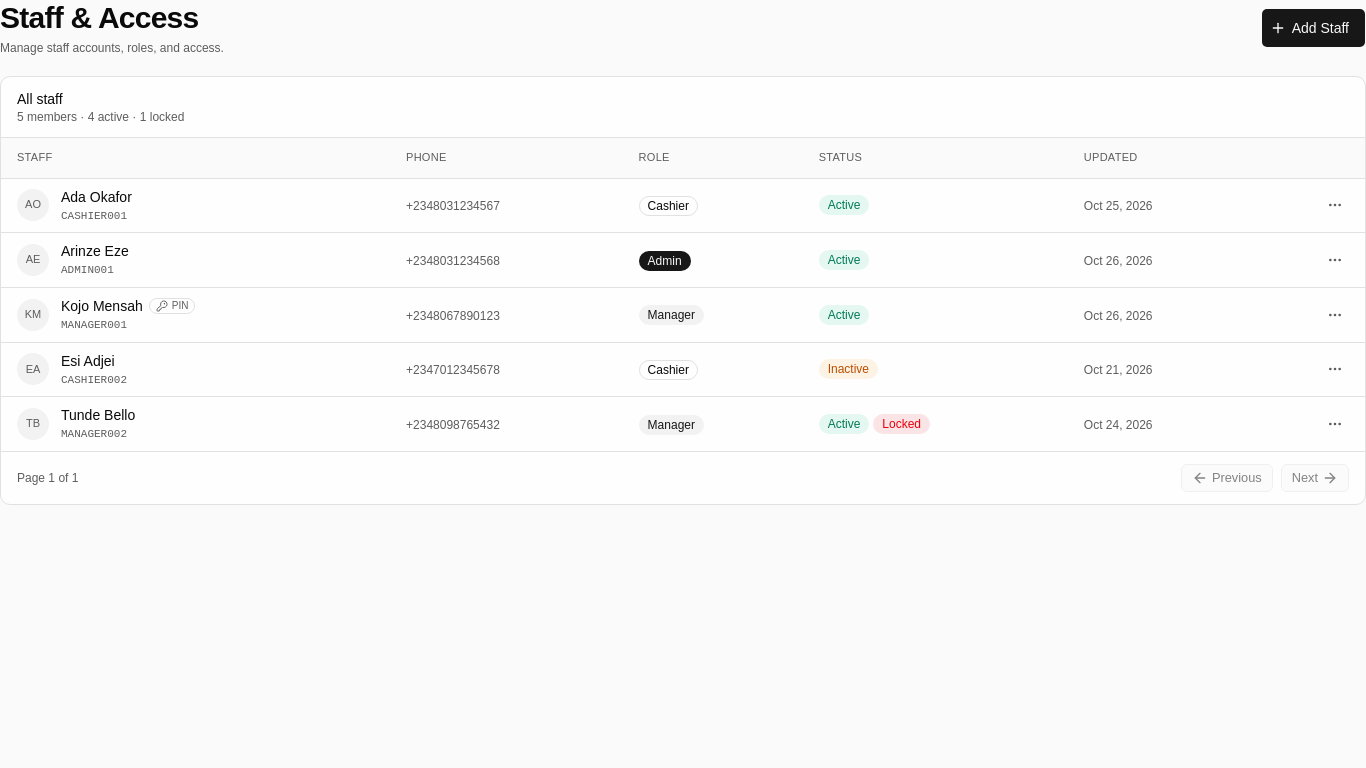
it: StaffAccessPage › shows staff details from the selected row
The width and height of the screenshot is (1366, 768).
Expected: the text "Arinze Eze" is shown, [61,241,129,261]
Step 1. Click the button named "Actions for Arinze Eze" → (1335, 260), box [1321,246,1349,274]
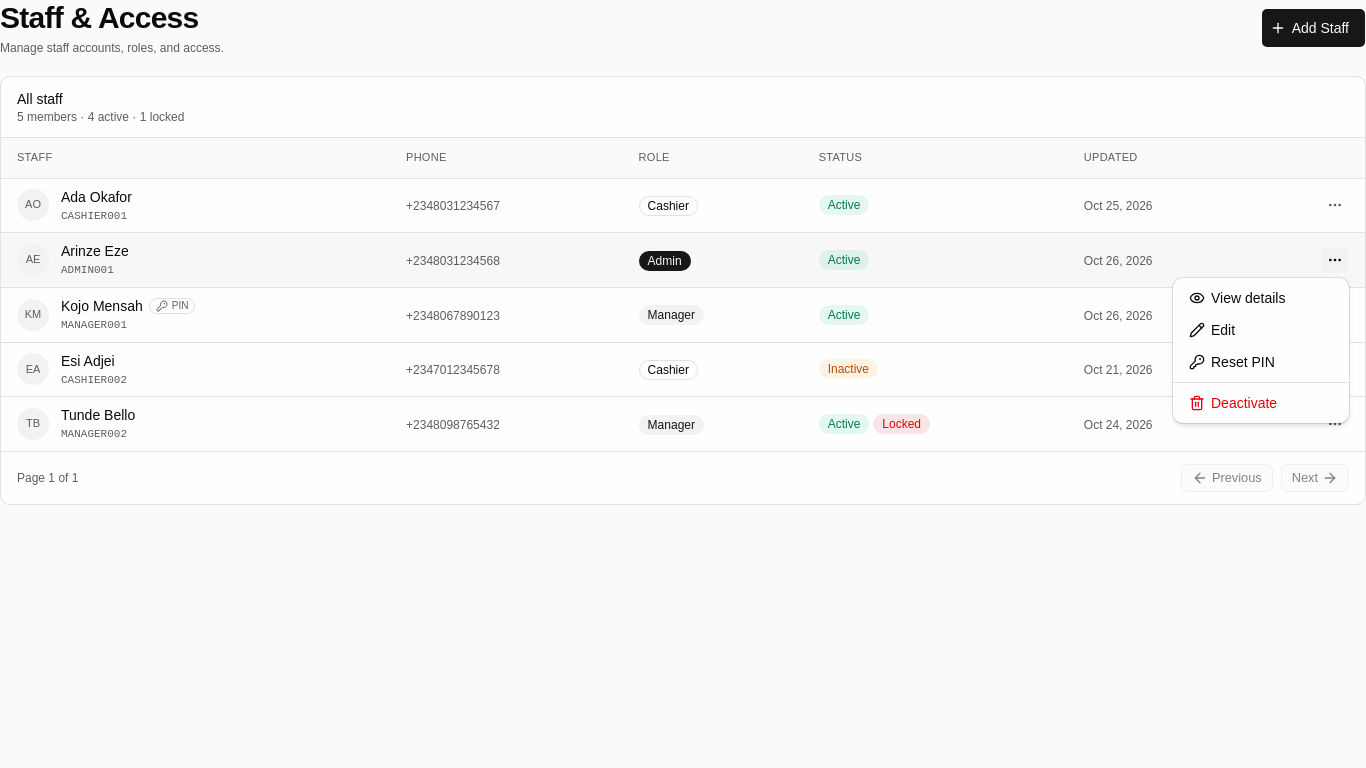
Step 2. Click the menu item "View details" → (1237, 298), box [1189,290,1286,306]
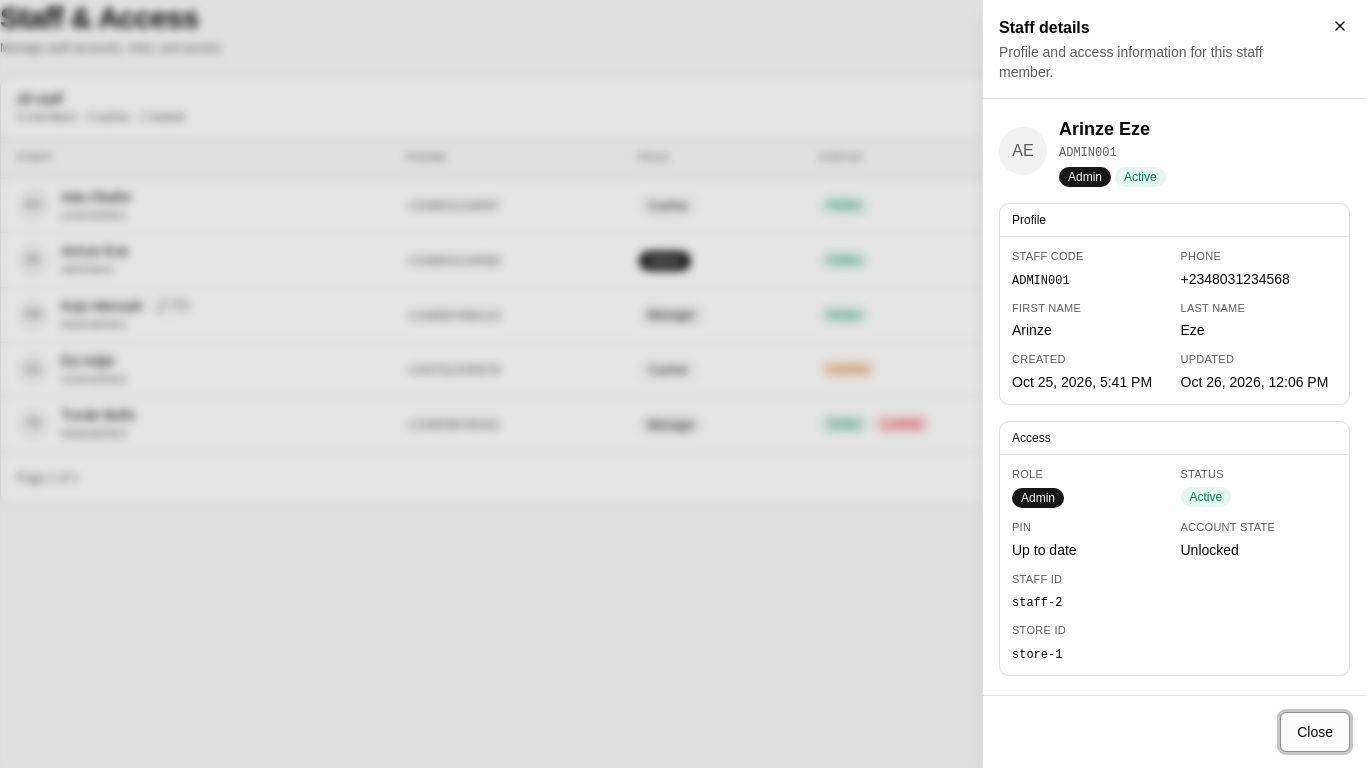
Expected: the heading "Staff details" is shown, [999,19,1090,36]
Expected: the text "ADMIN001" is shown 2 times, [1059,146,1117,160]; [1012,274,1070,288]
Expected: the text "+2348031234568" is shown, [1180,271,1290,287]
